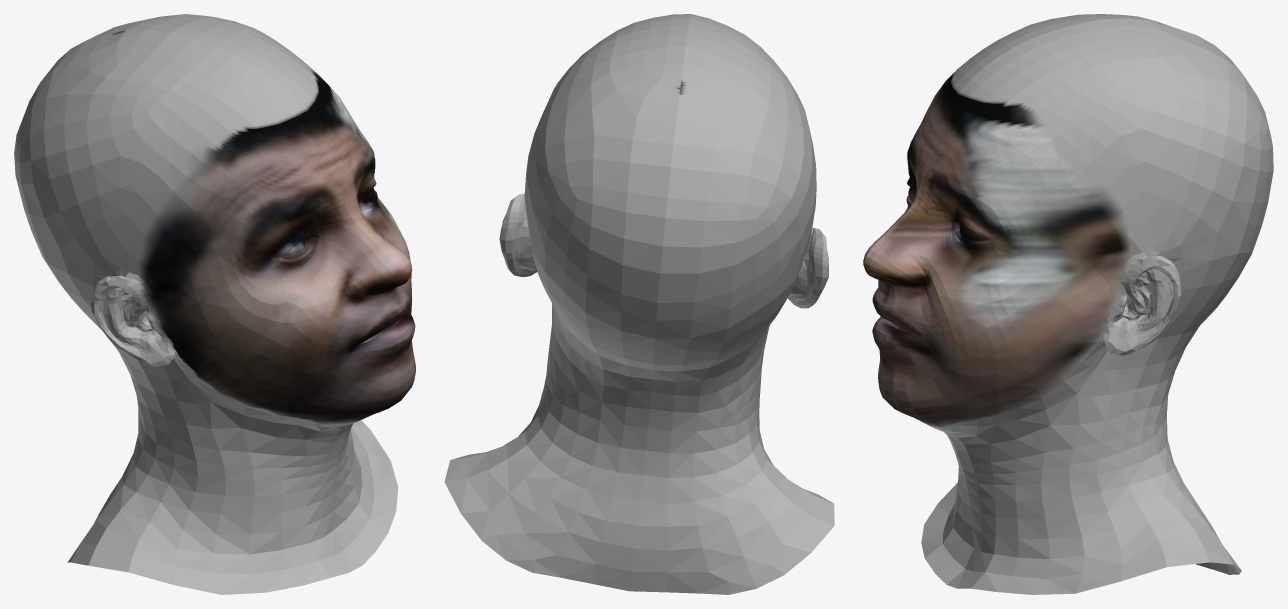
The model's file is image03786.obj.
The picture shows the model from 3 angles, left to right: view 1: azimuth 30°, elevation 25°; view 2: azimuth 150°, elevation 25°; view 3: azimuth 270°, elevation 25°; orthographic projection.
Bounding box in the file's own units: 0.2091 × 0.314 × 0.2205.
Materials: 1 (1 with a texture image).
